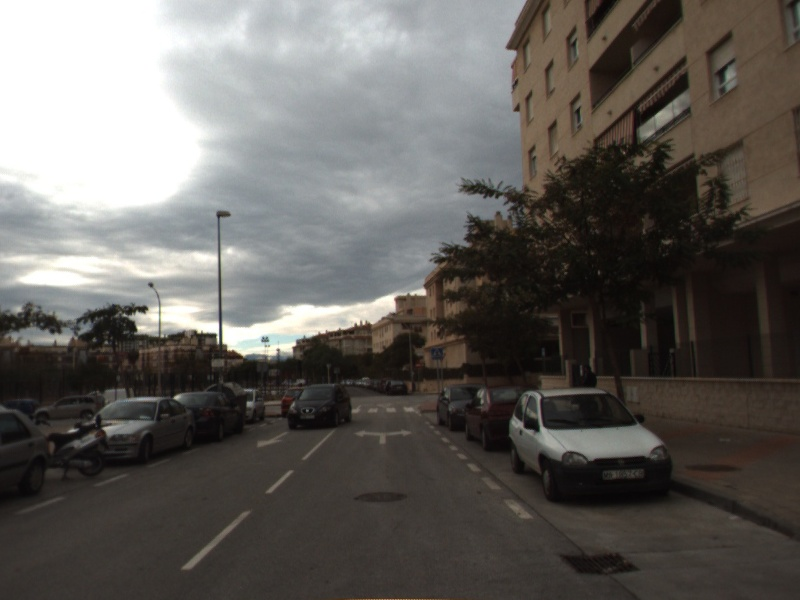LEFT_RIGHT: (351, 426, 415, 446)
